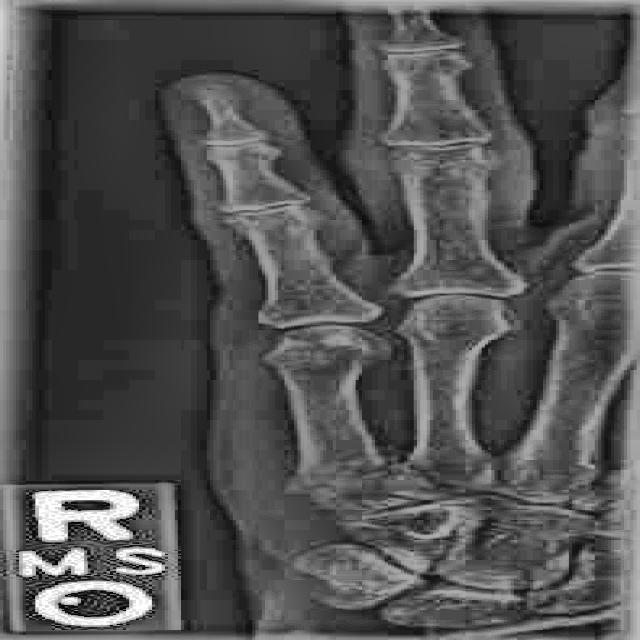fingers positive: (263, 443, 447, 520), (268, 325, 414, 373)
